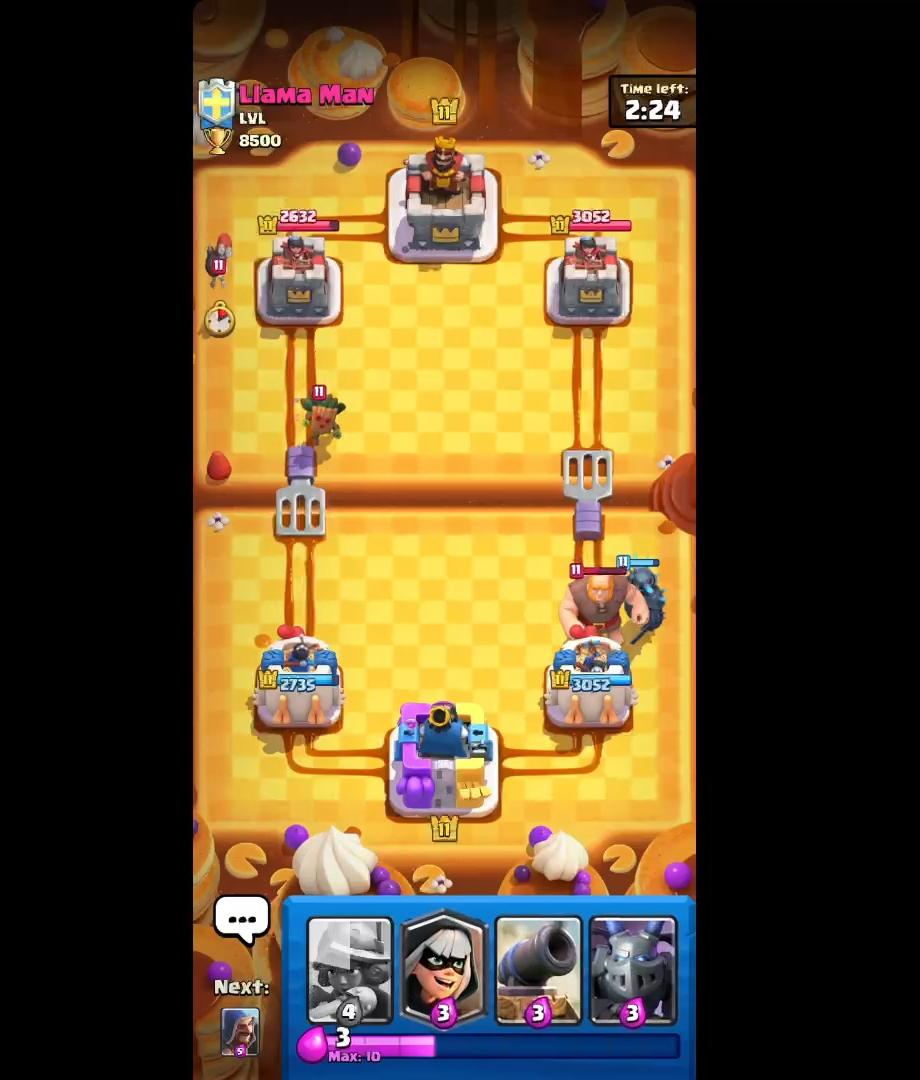Dart Goblin: (296, 381, 353, 450)
